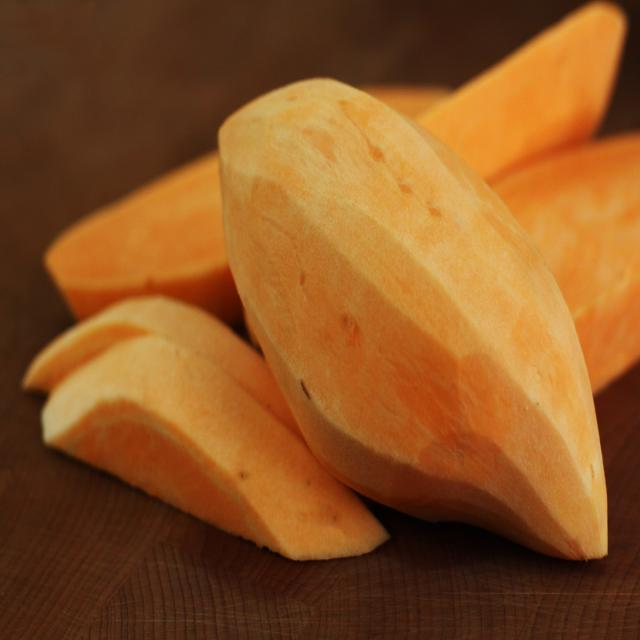sweet potato: (219, 80, 608, 557), (41, 335, 388, 559), (22, 294, 302, 438), (45, 153, 242, 323)
